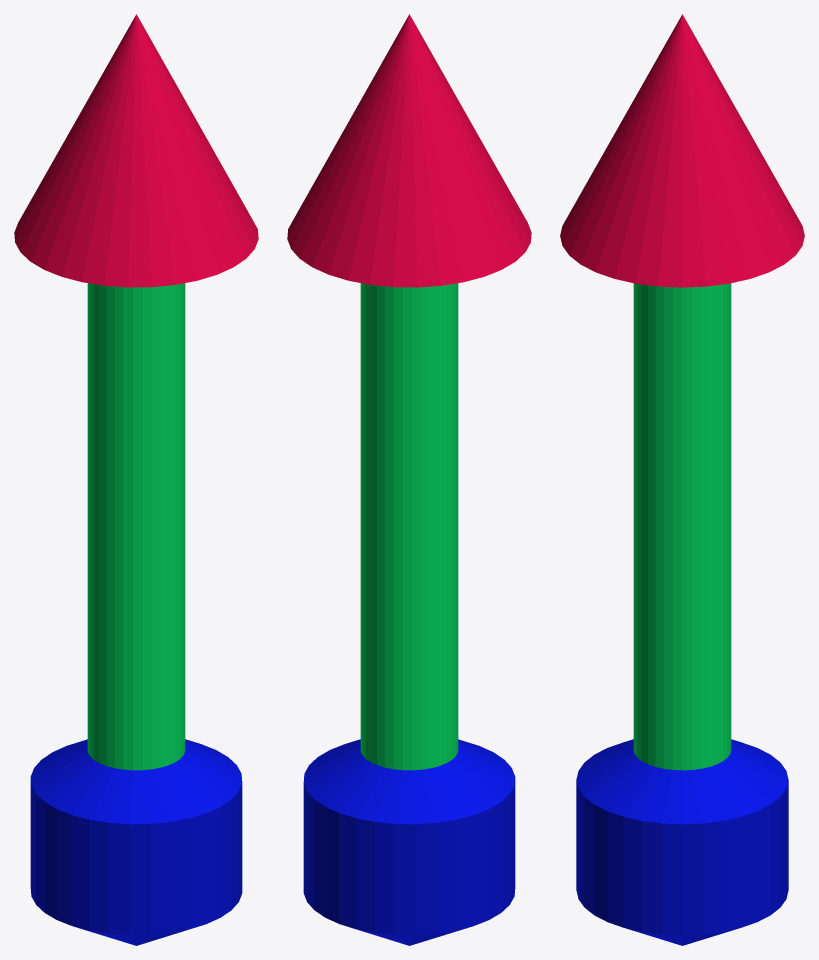
Rendered from Arrow.glb.
3 views of the same model, side by side, from view 1: azimuth 30°, elevation 25°; view 2: azimuth 150°, elevation 25°; view 3: azimuth 270°, elevation 25° (orthographic).
Visible parts, largest first — view 1: Cylinder, Cone, Sphere; view 2: Cylinder, Cone, Sphere; view 3: Cylinder, Cone, Sphere.
Boxes of the visible parts, x1,y1,x2,y2 form: Cylinder: [87, 283, 185, 770]; Cone: [14, 14, 258, 287]; Sphere: [30, 739, 242, 945]; Cylinder: [360, 283, 458, 770]; Cone: [287, 14, 531, 287]; Sphere: [303, 739, 515, 945]; Cylinder: [633, 283, 731, 770]; Cone: [560, 14, 804, 287]; Sphere: [576, 739, 788, 945].
Bounding box in the file's own units: 1 × 4.2 × 1.
